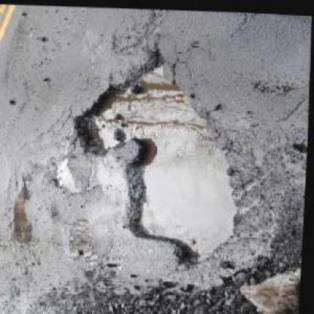Hueco: (62, 42, 246, 266), (8, 179, 40, 240), (49, 155, 86, 194)
